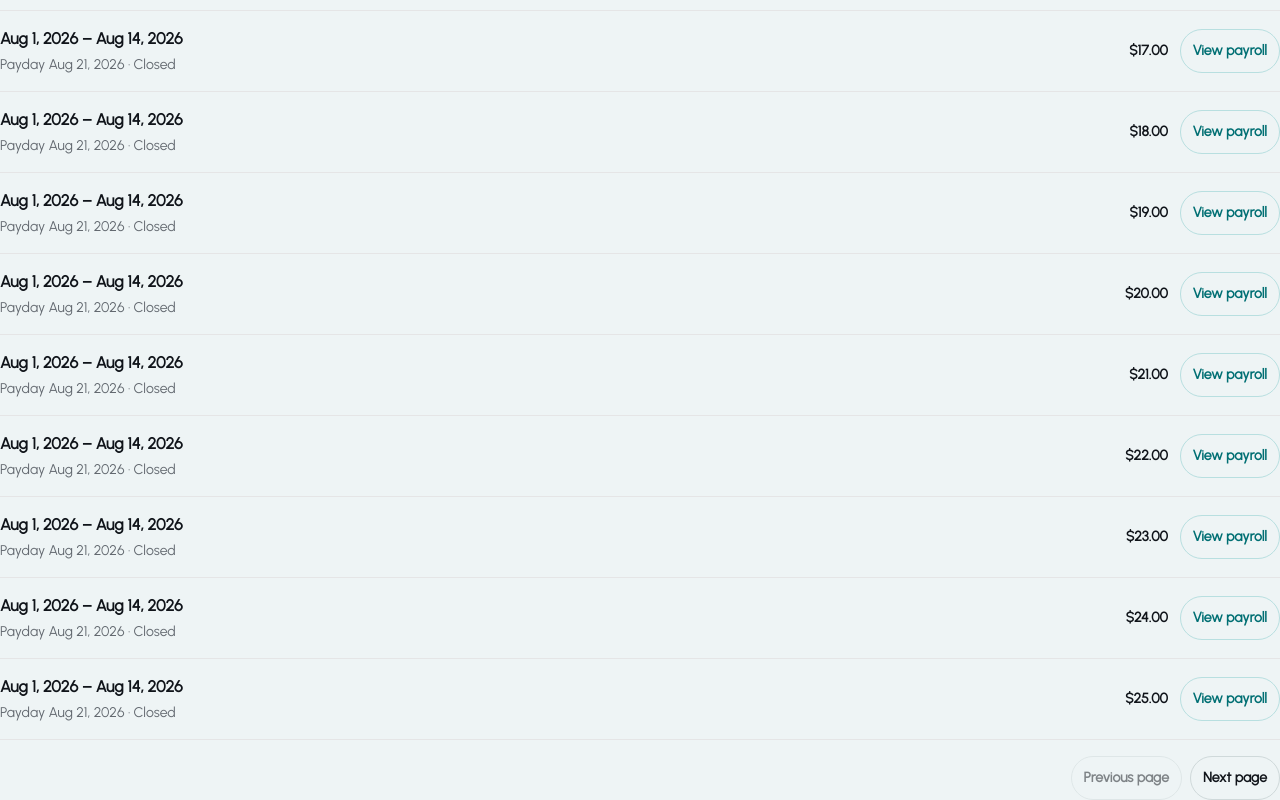
it: PayrollHistoryPanel › returns to page one and closes selected detail when mode changes
The image size is (1280, 800).
(page scrolled)
Step 1. Click the button "Next page" → (1235, 778), box [1190,756,1279,799]
(page scrolled)
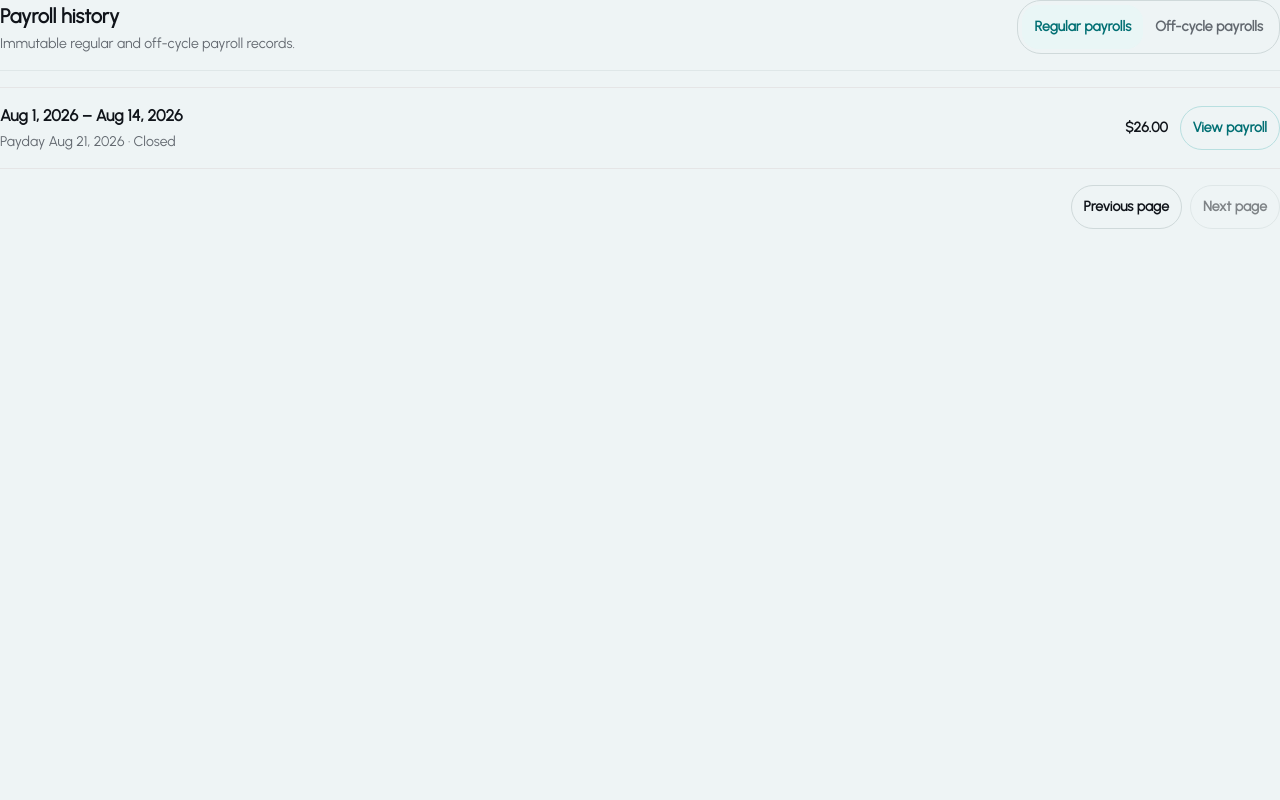
Step 2. Click the button "View payroll" → (1230, 128), box [1180,106,1279,150]
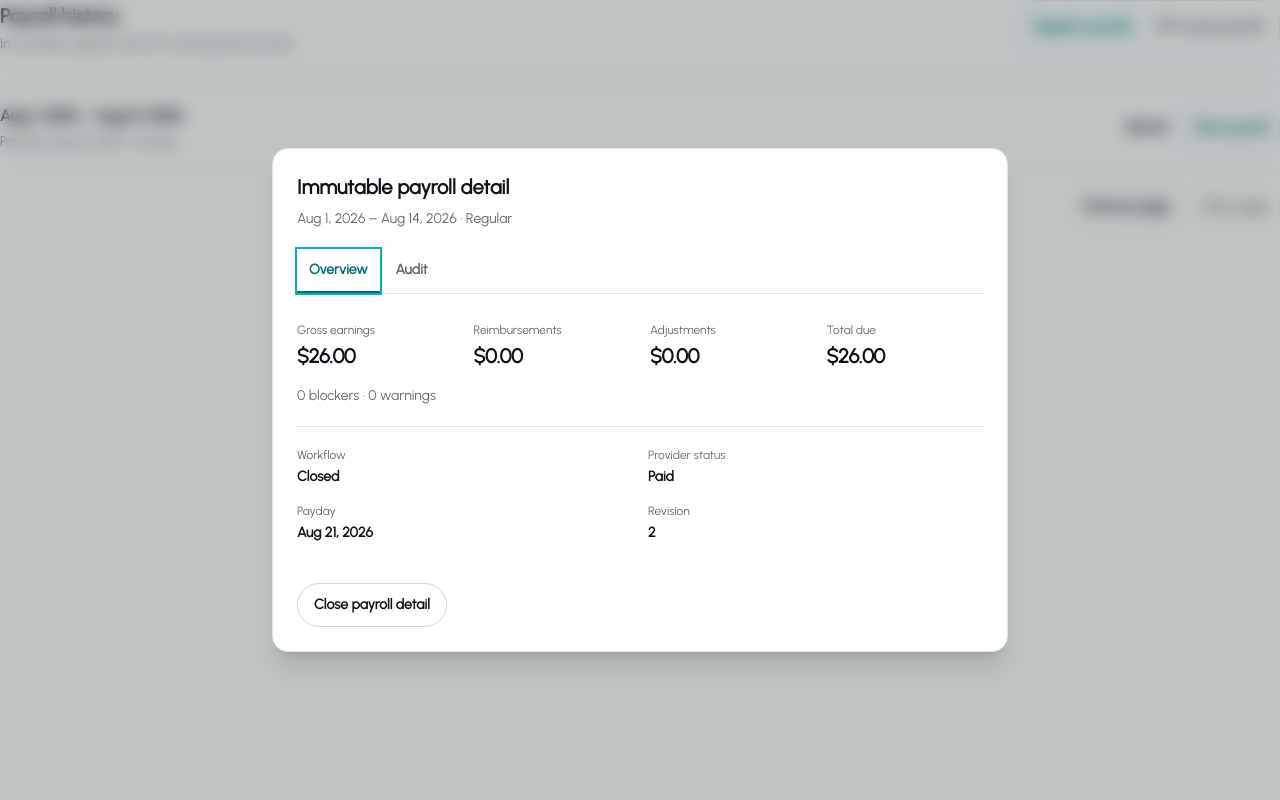
Result: the dialog "Immutable payroll detail" is shown at [272,148,1008,652]
